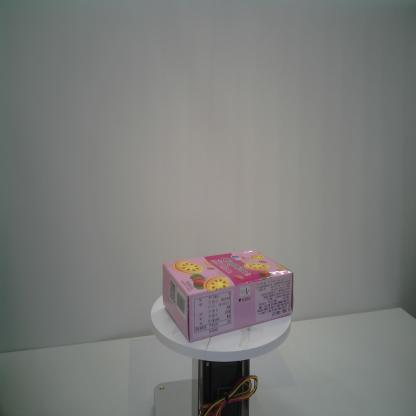Dessert: (160, 248, 296, 345)
